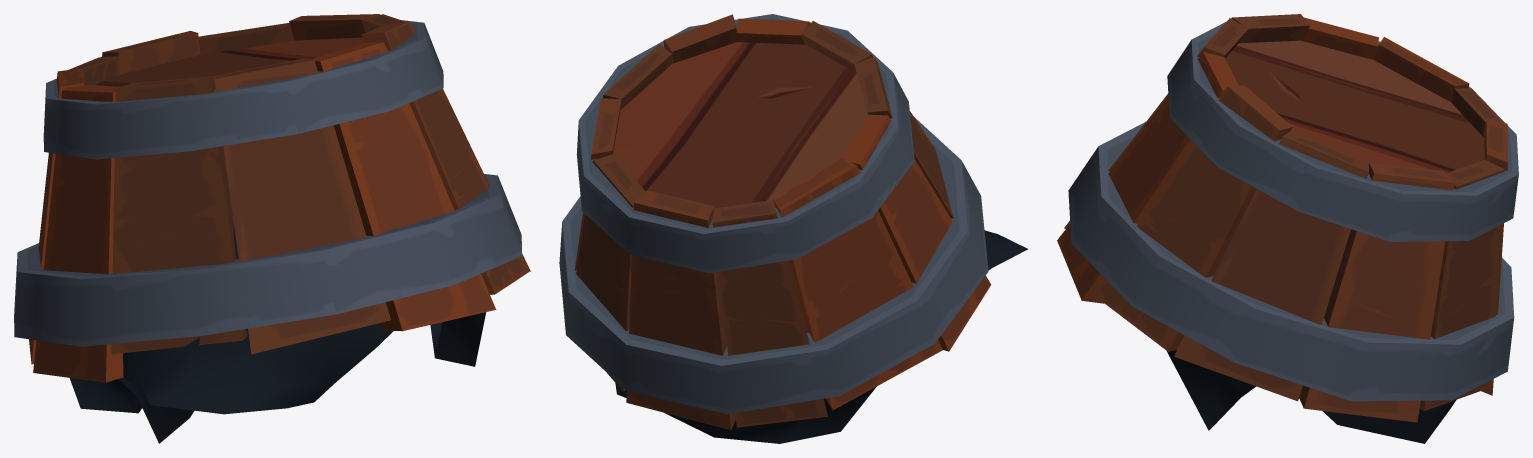
File: BucketHelmet.fbx
3 renders of one model, left to right at view 1: azimuth 30°, elevation 25°; view 2: azimuth 150°, elevation 25°; view 3: azimuth 270°, elevation 25°, orthographic. The views are drawn at different scales.
Parts seen in each view (by area): view 1: BucketHelmet, HeroHairBucket; view 2: BucketHelmet, HeroHairBucket; view 3: BucketHelmet, HeroHairBucket.
Boxes of the visible parts, x1,y1,x2,y2 form: BucketHelmet: (14, 14, 530, 382); HeroHairBucket: (69, 223, 486, 443); BucketHelmet: (559, 14, 991, 430); HeroHairBucket: (615, 230, 1028, 443); BucketHelmet: (1057, 14, 1518, 422); HeroHairBucket: (1167, 350, 1455, 443).
Bounding box in the file's own units: 66.67 × 55.74 × 66.19.
Materials: 4 (4 with a texture image).
